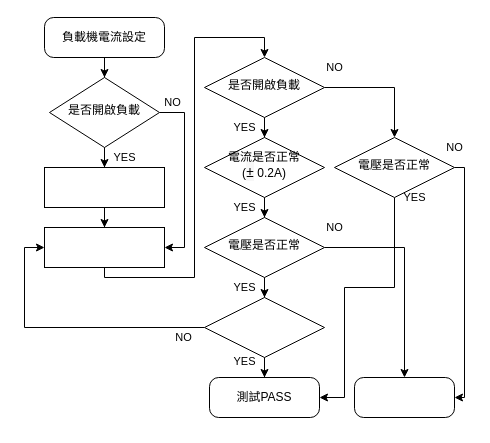
Image size: 490x443. Some labels were removed from this diagram. Here are the shapes that lost their labels. From the top down, the box of each, then its label:
(44, 166, 164, 208): 開啟負載
(44, 226, 164, 268): 取得負載機電壓電流
(204, 296, 324, 358): 正常電壓 是否累計三筆
(354, 376, 454, 418): 測試FAIL
